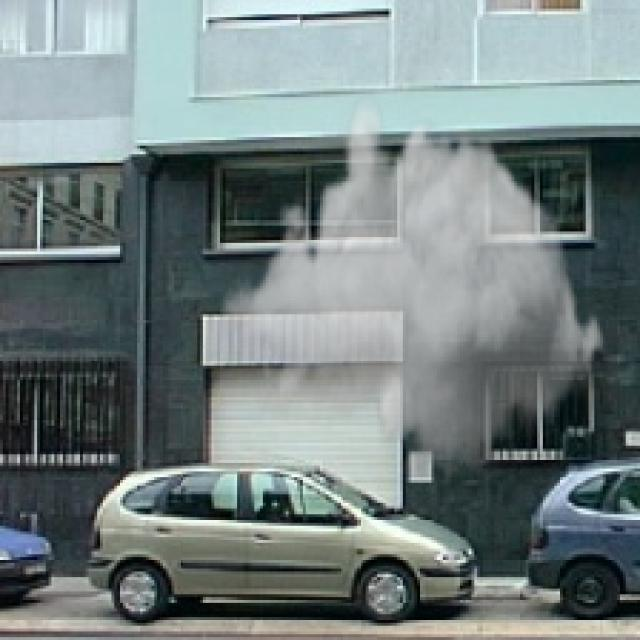Smoke: (220, 91, 609, 486)
